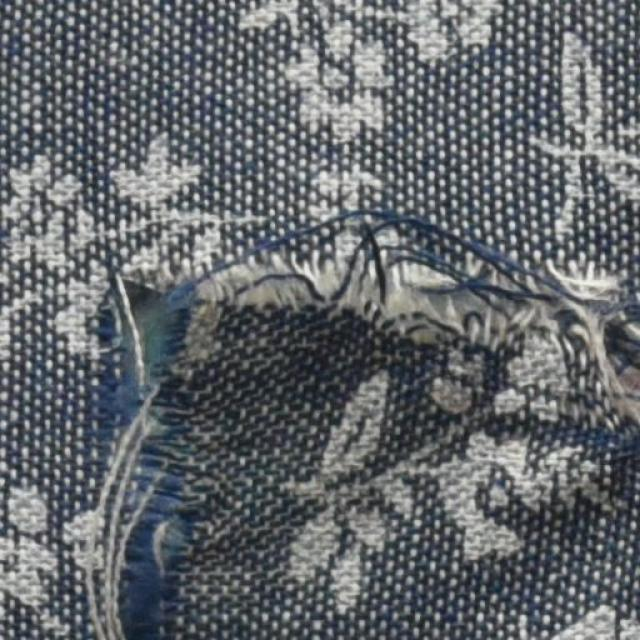Hole: (114, 285, 172, 389)
Snag: (191, 195, 639, 432), (76, 388, 214, 639)
